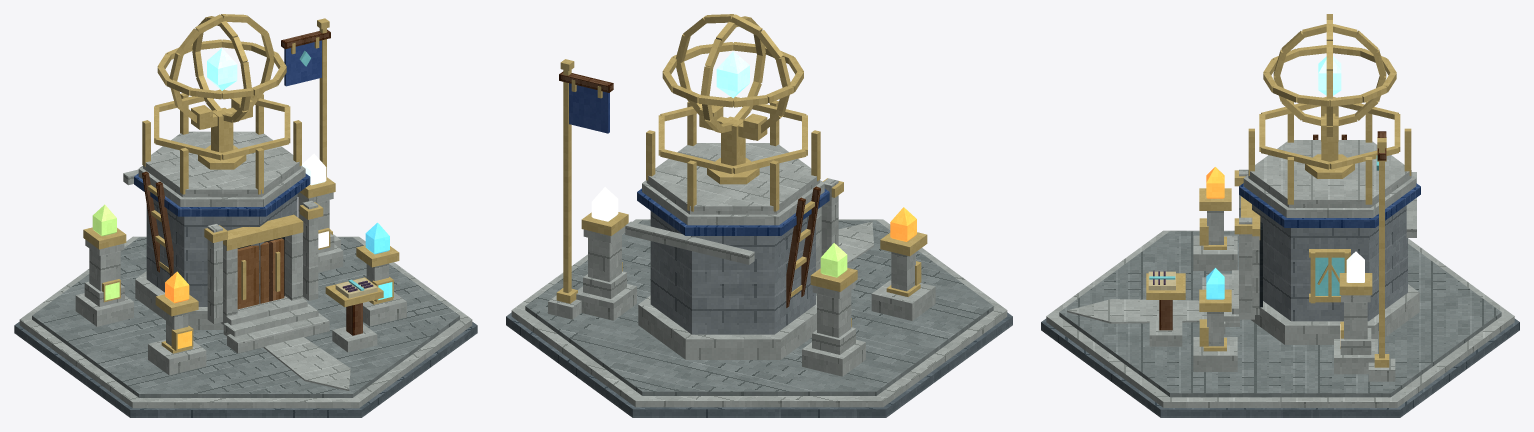
Rendered from elemental_observatory_hex_v1.glb.
The picture shows the model from 3 angles, left to right: view 1: azimuth 30°, elevation 25°; view 2: azimuth 150°, elevation 25°; view 3: azimuth 270°, elevation 25°; orthographic projection. The views are drawn at different scales.
Visible parts, largest first — view 1: Elemental_Observatory_Hex_V1_Foundation, Elemental_Observatory_Hex_V1_Focus, Elemental_Observatory_Hex_V1_Roofs, Elemental_Observatory_Hex_V1_Hall, Elemental_Observatory_Hex_V1_Courtyard, Elemental_Observatory_Hex_V1_Details, Elemental_Observatory_Hex_V1_Training, Elemental_Observatory_Hex_V1_Faction; view 2: Elemental_Observatory_Hex_V1_Foundation, Elemental_Observatory_Hex_V1_Focus, Elemental_Observatory_Hex_V1_Hall, Elemental_Observatory_Hex_V1_Roofs, Elemental_Observatory_Hex_V1_Details, Elemental_Observatory_Hex_V1_Faction, Elemental_Observatory_Hex_V1_Courtyard; view 3: Elemental_Observatory_Hex_V1_Foundation, Elemental_Observatory_Hex_V1_Focus, Elemental_Observatory_Hex_V1_Hall, Elemental_Observatory_Hex_V1_Roofs, Elemental_Observatory_Hex_V1_Details, Elemental_Observatory_Hex_V1_Courtyard, Elemental_Observatory_Hex_V1_Training, Elemental_Observatory_Hex_V1_Faction.
Boxes of the visible parts, bbox=[...] form: Elemental_Observatory_Hex_V1_Foundation: bbox=[14, 236, 477, 417]; Elemental_Observatory_Hex_V1_Focus: bbox=[75, 14, 406, 375]; Elemental_Observatory_Hex_V1_Roofs: bbox=[134, 89, 310, 216]; Elemental_Observatory_Hex_V1_Hall: bbox=[135, 194, 306, 329]; Elemental_Observatory_Hex_V1_Courtyard: bbox=[220, 296, 350, 390]; Elemental_Observatory_Hex_V1_Details: bbox=[123, 169, 323, 323]; Elemental_Observatory_Hex_V1_Training: bbox=[105, 231, 392, 352]; Elemental_Observatory_Hex_V1_Faction: bbox=[281, 18, 340, 248]; Elemental_Observatory_Hex_V1_Foundation: bbox=[506, 219, 1012, 417]; Elemental_Observatory_Hex_V1_Focus: bbox=[576, 14, 935, 376]; Elemental_Observatory_Hex_V1_Hall: bbox=[638, 207, 821, 359]; Elemental_Observatory_Hex_V1_Roofs: bbox=[637, 96, 829, 235]; Elemental_Observatory_Hex_V1_Details: bbox=[625, 178, 843, 307]; Elemental_Observatory_Hex_V1_Faction: bbox=[548, 59, 613, 319]; Elemental_Observatory_Hex_V1_Courtyard: bbox=[838, 221, 873, 263]; Elemental_Observatory_Hex_V1_Foundation: bbox=[1041, 230, 1519, 417]; Elemental_Observatory_Hex_V1_Focus: bbox=[1193, 14, 1396, 374]; Elemental_Observatory_Hex_V1_Hall: bbox=[1241, 196, 1419, 344]; Elemental_Observatory_Hex_V1_Roofs: bbox=[1239, 97, 1420, 227]; Elemental_Observatory_Hex_V1_Details: bbox=[1234, 134, 1416, 318]; Elemental_Observatory_Hex_V1_Courtyard: bbox=[1067, 270, 1254, 334]; Elemental_Observatory_Hex_V1_Training: bbox=[1146, 271, 1340, 346]; Elemental_Observatory_Hex_V1_Faction: bbox=[1368, 131, 1395, 381].
Size of the model in its own units: 1.59 by 1.32 by 1.84.
1 material, 1 textured.
